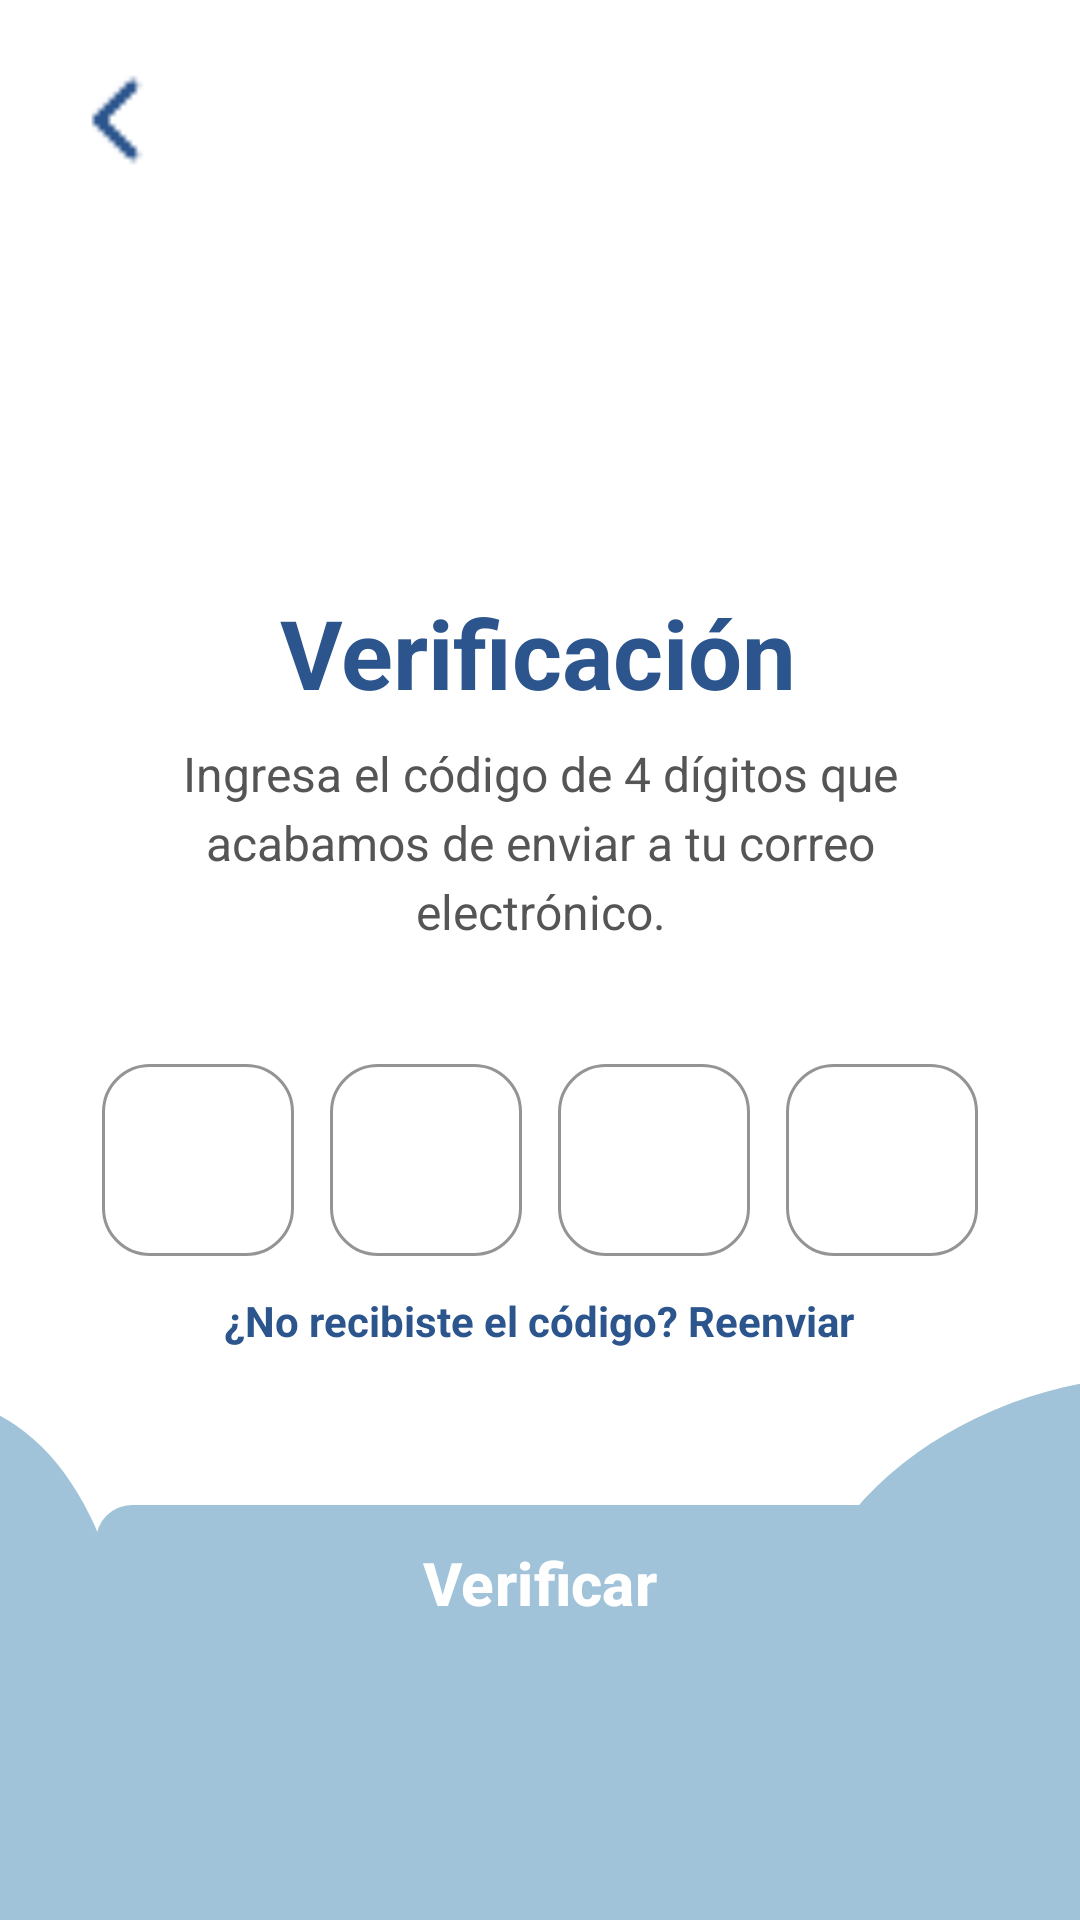

Named icons in this screenshot (1080 x 1920) and their centers, point (x, y):
back arrow: point (116, 120)
